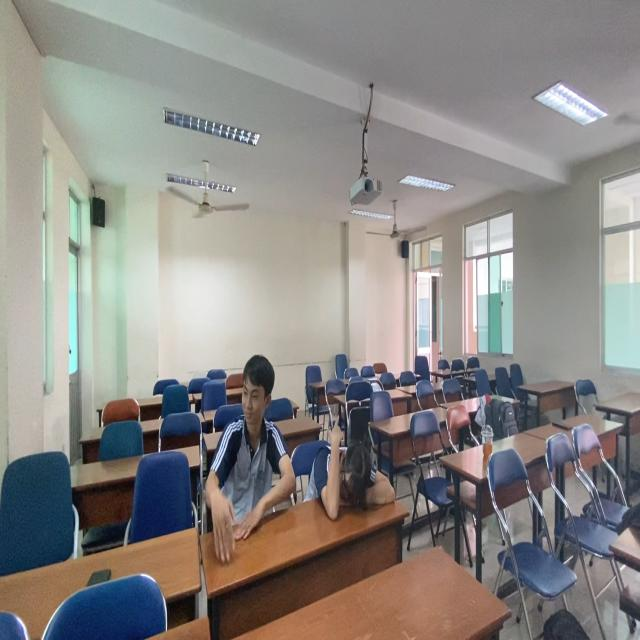sleep: (305, 421, 405, 522)
